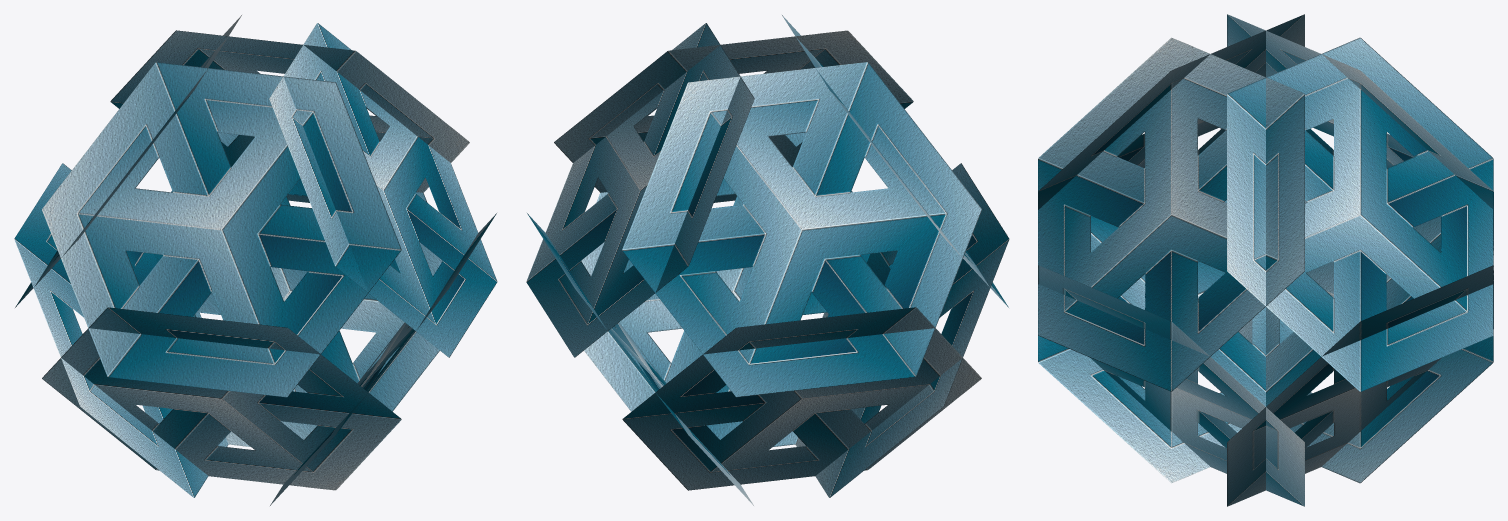
Rendered from CubitruncatedCuboctahedron43.gltf.
3 renders of one model, left to right at view 1: azimuth 30°, elevation 25°; view 2: azimuth 150°, elevation 25°; view 3: azimuth 270°, elevation 25°, orthographic.
Parts seen in each view (by area): view 1: CubitruncatedCuboctahedron; view 2: CubitruncatedCuboctahedron; view 3: CubitruncatedCuboctahedron.
Part boxes in pixels (<box>): CubitruncatedCuboctahedron: <box>14,15,497,505</box>; CubitruncatedCuboctahedron: <box>526,15,1009,505</box>; CubitruncatedCuboctahedron: <box>1038,14,1493,506</box>.
Bounding box in the file's own units: 2.41 × 2.41 × 2.41.
1 material, 1 textured.
